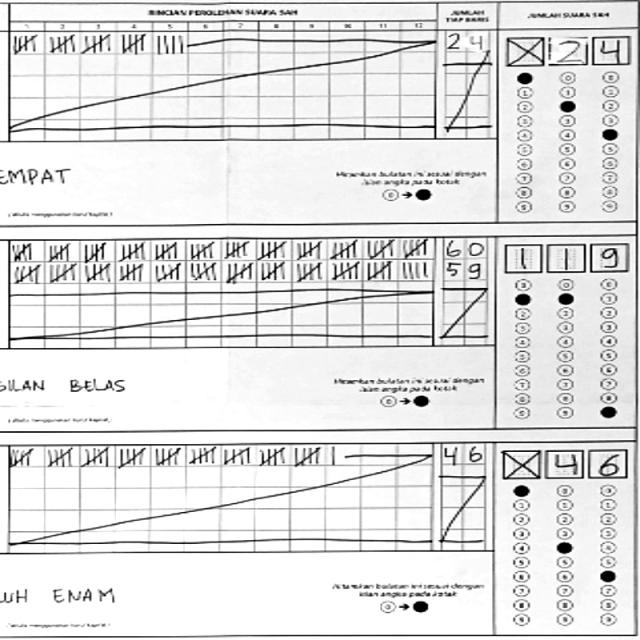Suara: (502, 30, 634, 70), (498, 444, 630, 483), (500, 238, 632, 276)
